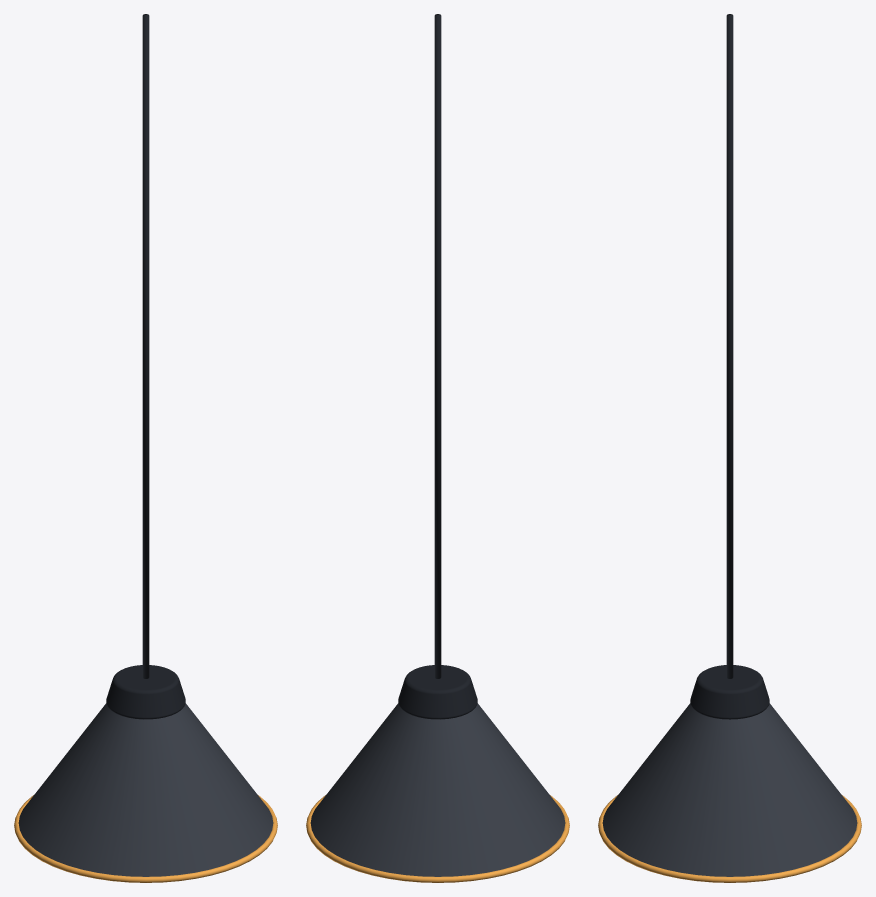
Rendered from pendant.glb.
3 views of the same model, side by side, from view 1: azimuth 30°, elevation 25°; view 2: azimuth 150°, elevation 25°; view 3: azimuth 270°, elevation 25° (orthographic).
Visible parts, largest first — view 1: PendantShade, PendantCord, PendantCap, PendantRim; view 2: PendantShade, PendantCord, PendantCap, PendantRim; view 3: PendantShade, PendantCord, PendantCap, PendantRim.
Boxes of the visible parts, x1,y1,x2,y2 form: PendantShade: (18,703,273,876); PendantCord: (142,14,149,678); PendantCap: (106,665,185,719); PendantRim: (14,795,277,882); PendantShade: (310,703,565,876); PendantCord: (434,14,441,678); PendantCap: (398,665,477,719); PendantRim: (306,795,569,882); PendantShade: (602,703,857,876); PendantCord: (726,14,733,678); PendantCap: (690,665,769,719); PendantRim: (598,795,861,882).
Bounding box in the file's own units: 0.324 × 1.1 × 0.324.
